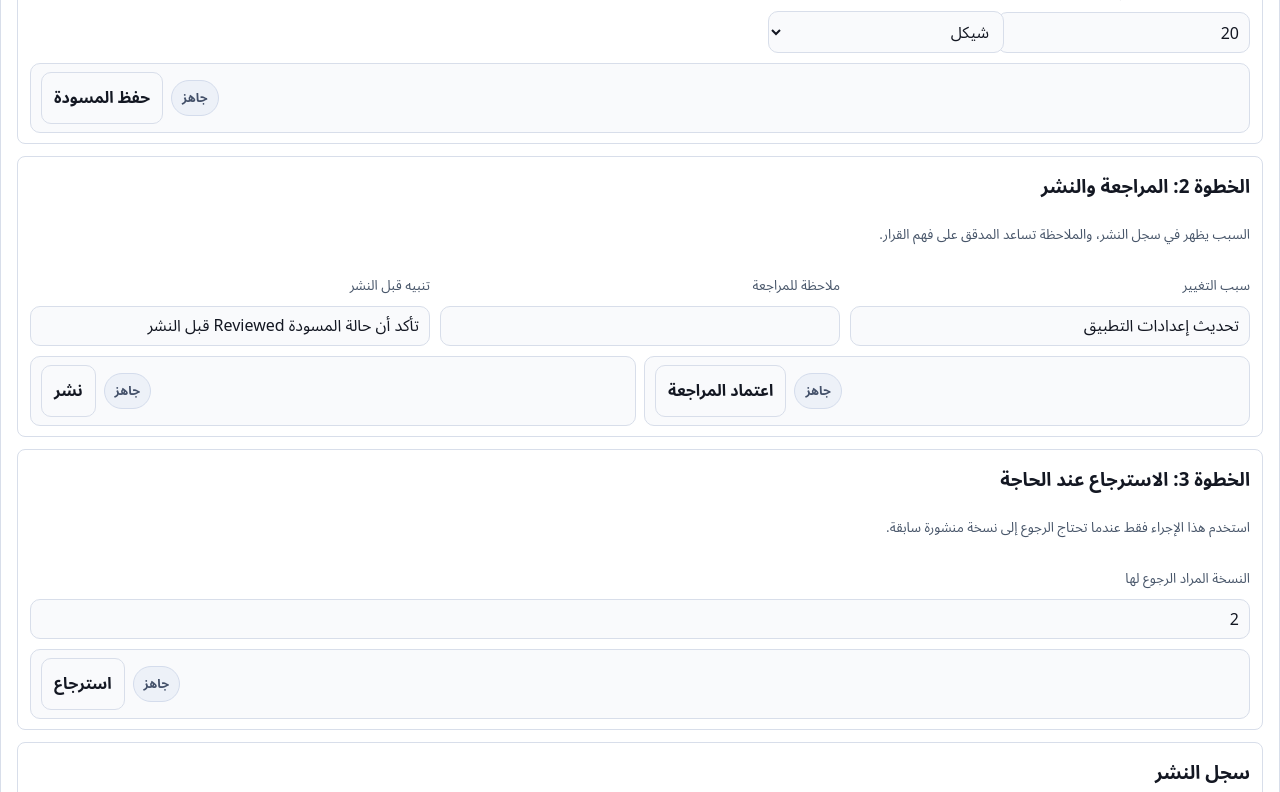
Test: config governance shell › loading state prevents duplicate publish confirmation clicks
The image size is (1280, 792).
(page scrolled)
Click the button "نشر": (68, 391) [41,365,96,417]
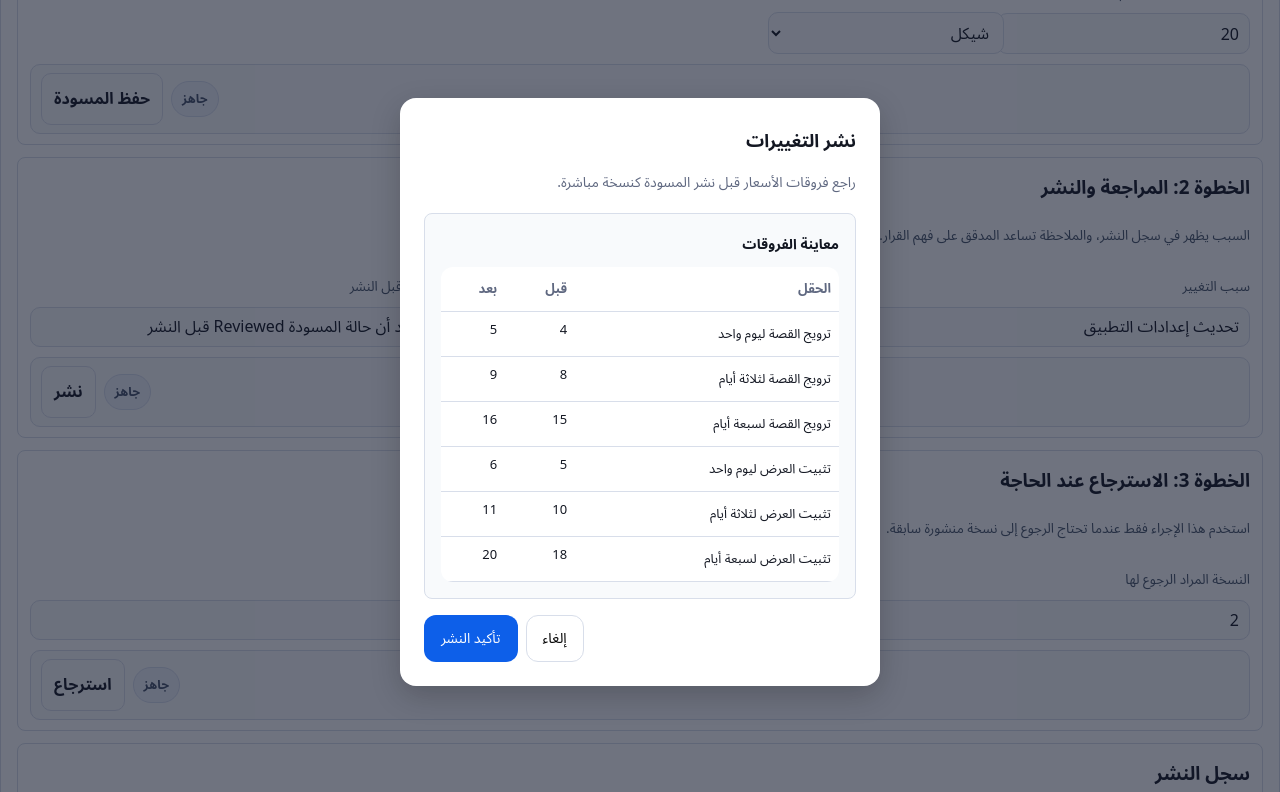
Click the button "تأكيد النشر": (471, 638) [424,615,518,662]
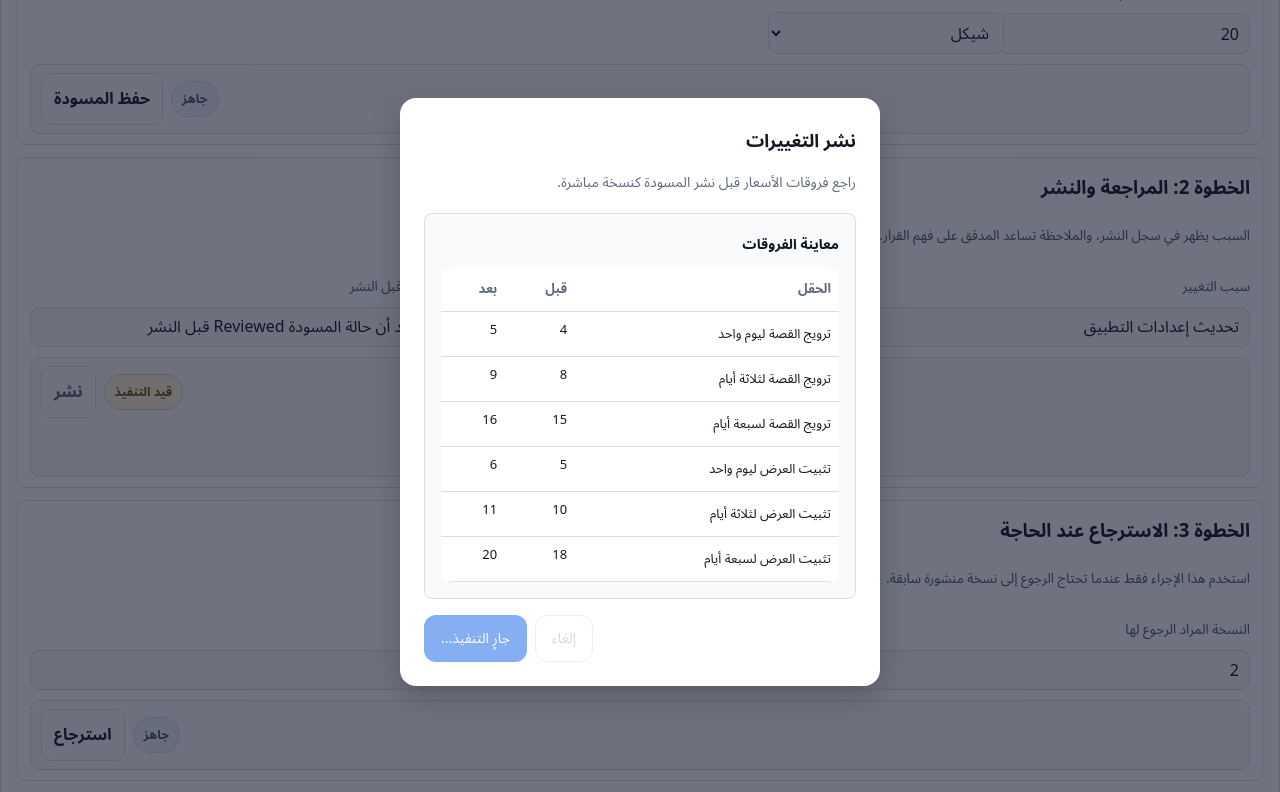
Check: the button "جارٍ التنفيذ..." is disabled
Click the button "جارٍ التنفيذ...": (476, 638) [424,615,527,662]
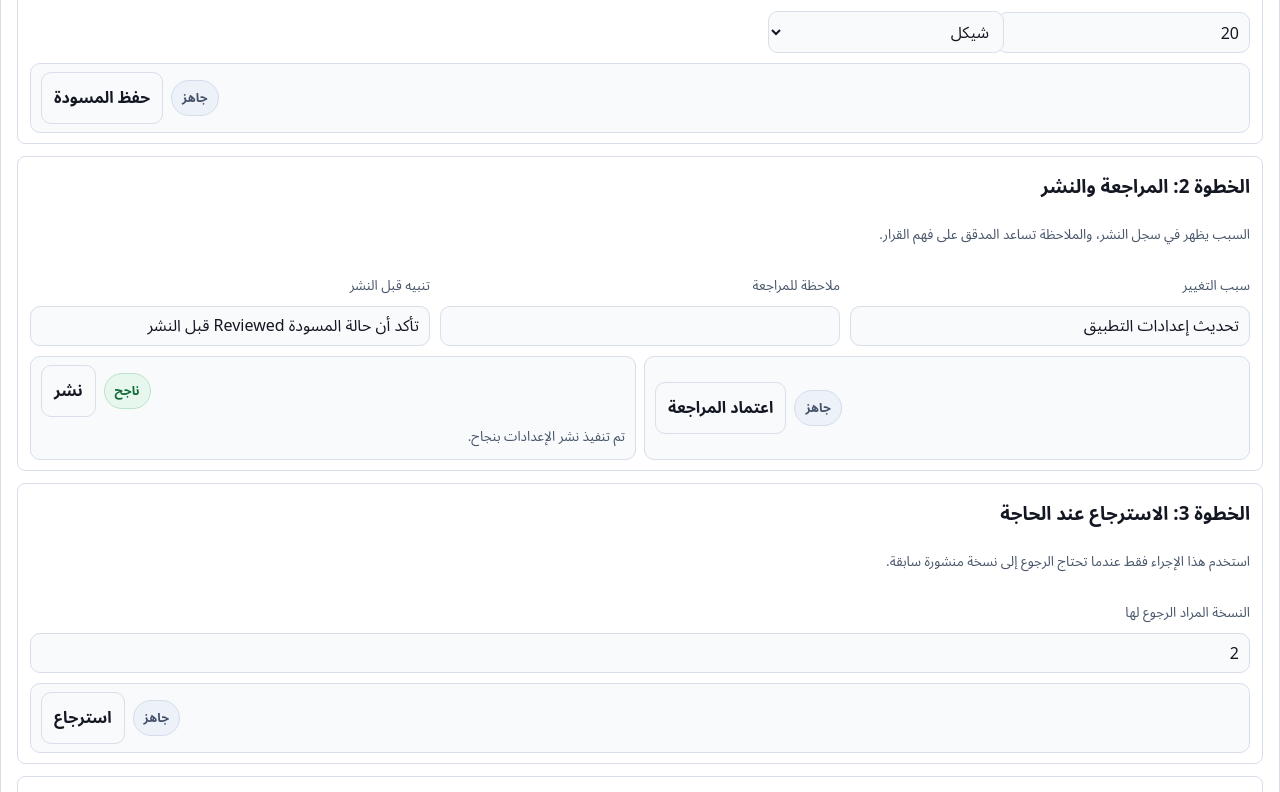
Check: the heading "نشر التغييرات" is gone
